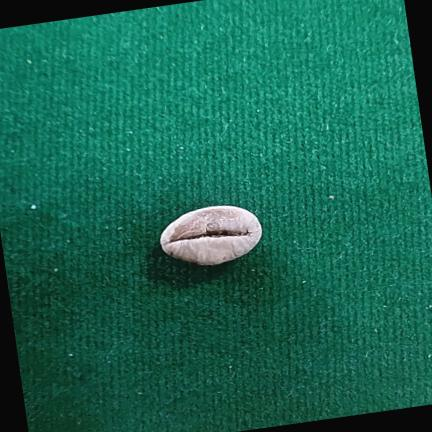husk: (159, 205, 262, 265)
